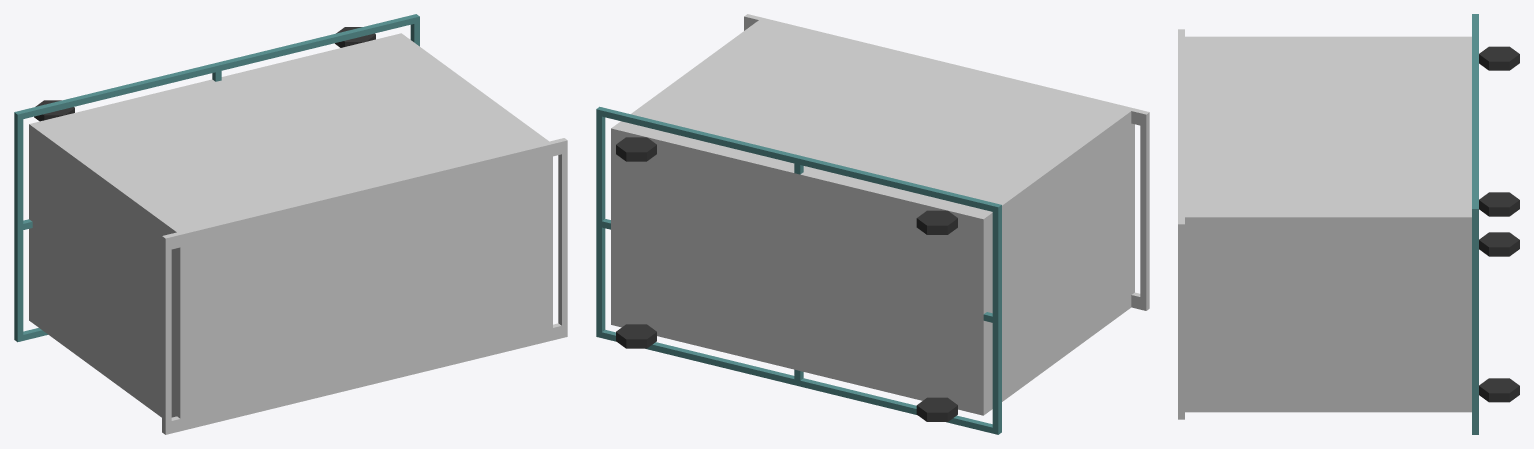
File: casecart.dae
3 renders of one model, left to right at view 1: azimuth 30°, elevation 25°; view 2: azimuth 150°, elevation 25°; view 3: azimuth 270°, elevation 25°, orthographic.
Parts seen in each view (by area): view 1: coords_ME_ID12_MA_Casecart_part_2, coords_ME_ID39_MA_Casecart_part_1; view 2: coords_ME_ID12_MA_Casecart_part_2, coords_ME_ID39_MA_Casecart_part_1, coords_ME_ID47_MA_Casecart_part_1, coords_ME_ID54_MA_Wheels, coords_ME_ID62_MA_Wheels, coords_ME_ID74_MA_Wheels, coords_ME_ID68_MA_Wheels; view 3: coords_ME_ID12_MA_Casecart_part_2, coords_ME_ID39_MA_Casecart_part_1, coords_ME_ID74_MA_Wheels, coords_ME_ID68_MA_Wheels, coords_ME_ID62_MA_Wheels, coords_ME_ID54_MA_Wheels.
Boxes of the visible parts, bbox=[...] form: coords_ME_ID12_MA_Casecart_part_2: bbox=[29, 33, 567, 434]; coords_ME_ID39_MA_Casecart_part_1: bbox=[14, 14, 419, 342]; coords_ME_ID12_MA_Casecart_part_2: bbox=[611, 14, 1149, 415]; coords_ME_ID39_MA_Casecart_part_1: bbox=[596, 106, 1001, 434]; coords_ME_ID47_MA_Casecart_part_1: bbox=[602, 116, 992, 427]; coords_ME_ID54_MA_Wheels: bbox=[916, 397, 957, 421]; coords_ME_ID62_MA_Wheels: bbox=[916, 210, 957, 234]; coords_ME_ID74_MA_Wheels: bbox=[616, 137, 656, 161]; coords_ME_ID68_MA_Wheels: bbox=[616, 324, 656, 348]; coords_ME_ID12_MA_Casecart_part_2: bbox=[1178, 29, 1471, 419]; coords_ME_ID39_MA_Casecart_part_1: bbox=[1472, 14, 1478, 434]; coords_ME_ID74_MA_Wheels: bbox=[1479, 192, 1519, 216]; coords_ME_ID68_MA_Wheels: bbox=[1479, 378, 1519, 402]; coords_ME_ID62_MA_Wheels: bbox=[1479, 46, 1519, 70]; coords_ME_ID54_MA_Wheels: bbox=[1479, 232, 1519, 256].
Size of the model in its own units: 14.45 by 7.81 by 10.7.
